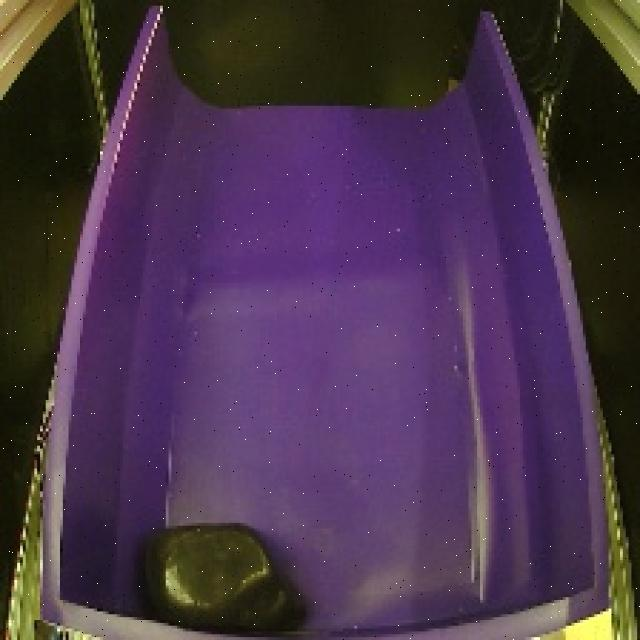cobbles: (127, 512, 324, 635)
